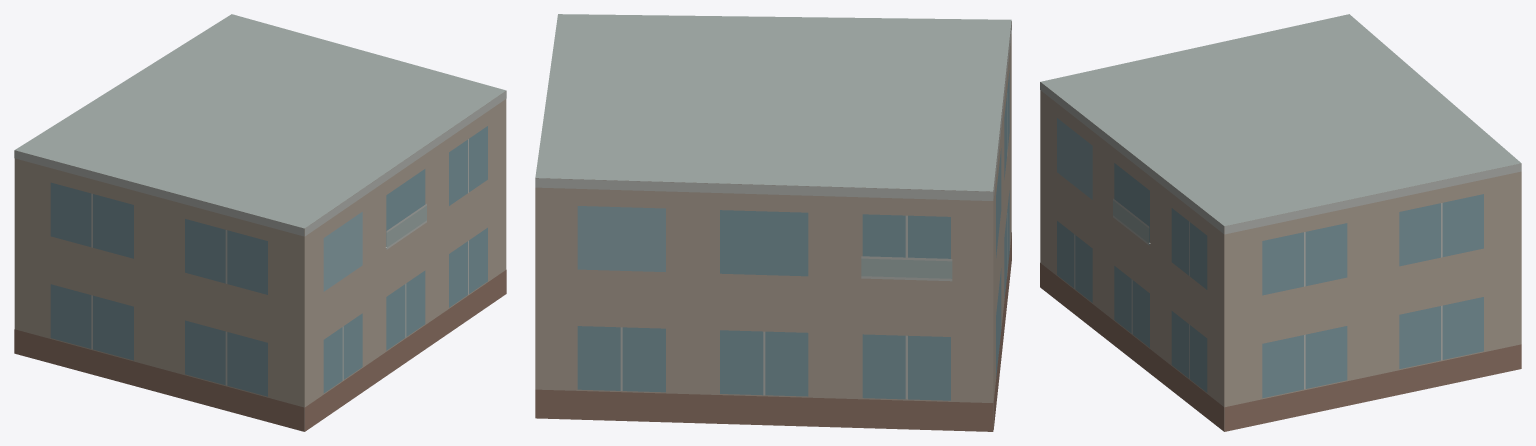
Rendered from survey-upis-32674804.glb.
3 views of the same model, side by side, from view 1: azimuth 30°, elevation 25°; view 2: azimuth 150°, elevation 25°; view 3: azimuth 270°, elevation 25° (orthographic). The views are drawn at different scales.
Parts seen in each view (by area): view 1: survey-upis-32674804.tmp; view 2: survey-upis-32674804.tmp; view 3: survey-upis-32674804.tmp.
Boxes of the visible parts, x1=… form: survey-upis-32674804.tmp: x1=14, y1=14, x2=506, y2=431; survey-upis-32674804.tmp: x1=535, y1=14, x2=1011, y2=431; survey-upis-32674804.tmp: x1=1040, y1=14, x2=1521, y2=431.
Size of the model in its own units: 13.52 by 6.1 by 12.95.
